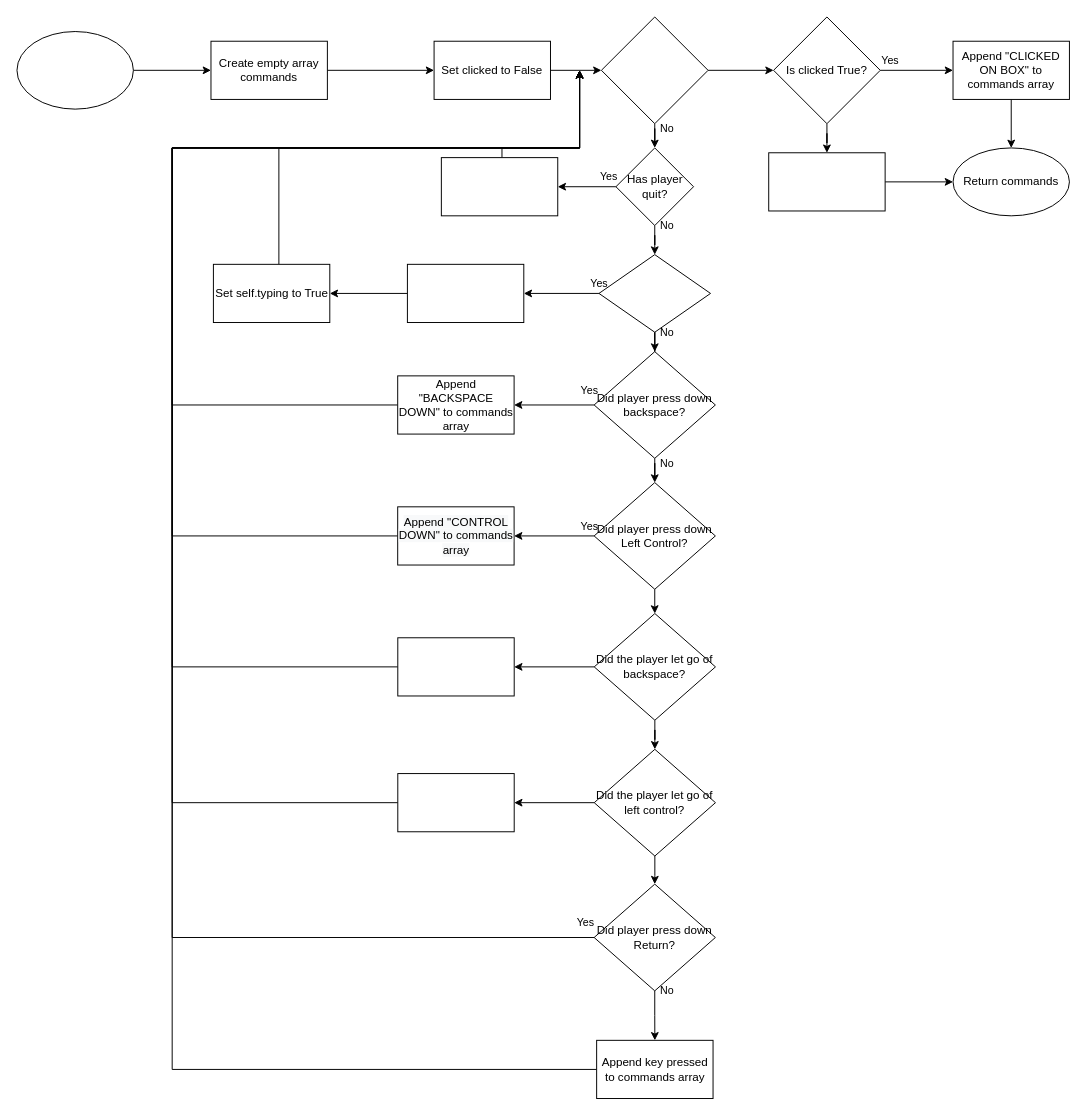
Image size: 1086x1116. Some labels were removed from this diagram. Here are the shapes that lost their labels. From the top down, the box of each, then its label:
(16, 31, 133, 109): Method Called
(600, 16, 708, 124): Have all inputs been processed?
(440, 157, 558, 216): Append "QUIT" to commands array
(768, 152, 885, 211): Append "CLICKED OUTSIDE OF BOX" to commands array
(406, 263, 524, 323): Set clicked to True
(598, 254, 711, 332): Did player click on the textbox?
(397, 637, 514, 696): Append "BACKSPACE UP" to commands array
(397, 773, 514, 832): Append "CONTROL UP" to commands array"
